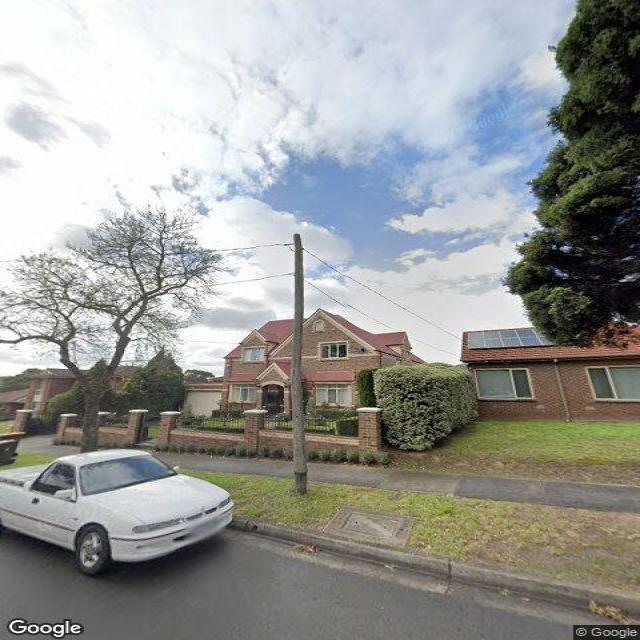timber-pole: (292, 232, 306, 496)
